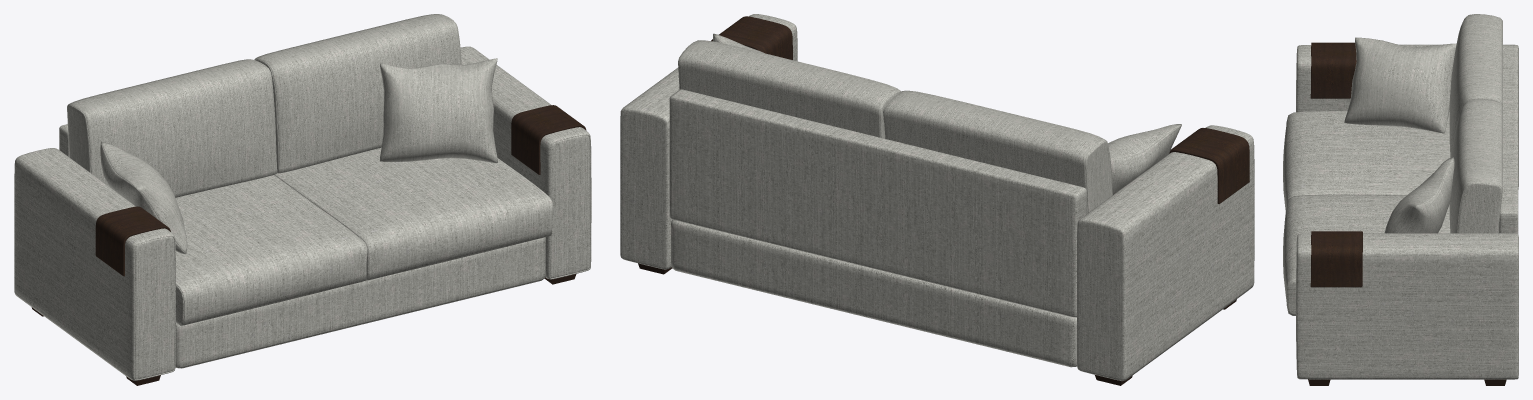
The picture shows the model from 3 angles, left to right: view 1: azimuth 30°, elevation 25°; view 2: azimuth 150°, elevation 25°; view 3: azimuth 270°, elevation 25°; orthographic projection. The views are drawn at different scales.
Parts seen in each view (by area): view 1: Pillow Big_Bottom, Pillow Big_Back, Sidewalls, Frame_bottom, pillow_01, Onlay_wood, pillow_02; view 2: Back cover, Sidewalls, Pillow Big_Back, Frame_bottom, Onlay_wood, pillow_02; view 3: Sidewalls, Pillow Big_Bottom, Pillow Big_Back, pillow_02, Onlay_wood, Back cover, pillow_01, Feet.
Part boxes in pixels (box(x1,y1,x2,y2)): Pillow Big_Bottom: box(175, 147, 552, 325); Pillow Big_Back: box(67, 14, 461, 197); Sidewalls: box(14, 46, 591, 380); Frame_bottom: box(175, 237, 545, 368); pillow_01: box(379, 58, 497, 162); Onlay_wood: box(95, 105, 586, 276); pillow_02: box(100, 142, 187, 253); Back cover: box(669, 89, 1086, 317); Sidewalls: box(620, 14, 1254, 380); Pillow Big_Back: box(678, 40, 1112, 213); Frame_bottom: box(671, 219, 1076, 367); Onlay_wood: box(711, 16, 1249, 204); pillow_02: box(1108, 124, 1181, 194); Sidewalls: box(1296, 44, 1518, 379); Pillow Big_Bottom: box(1283, 111, 1498, 315); Pillow Big_Back: box(1449, 14, 1502, 233); pillow_02: box(1344, 37, 1456, 133); Onlay_wood: box(1310, 42, 1362, 287); Back cover: box(1499, 45, 1518, 233); pillow_01: box(1384, 157, 1454, 233); Feet: box(1308, 379, 1506, 385).
Size of the model in its own units: 208 by 87.79 by 98.22.
Materials: 3 (3 with a texture image).
